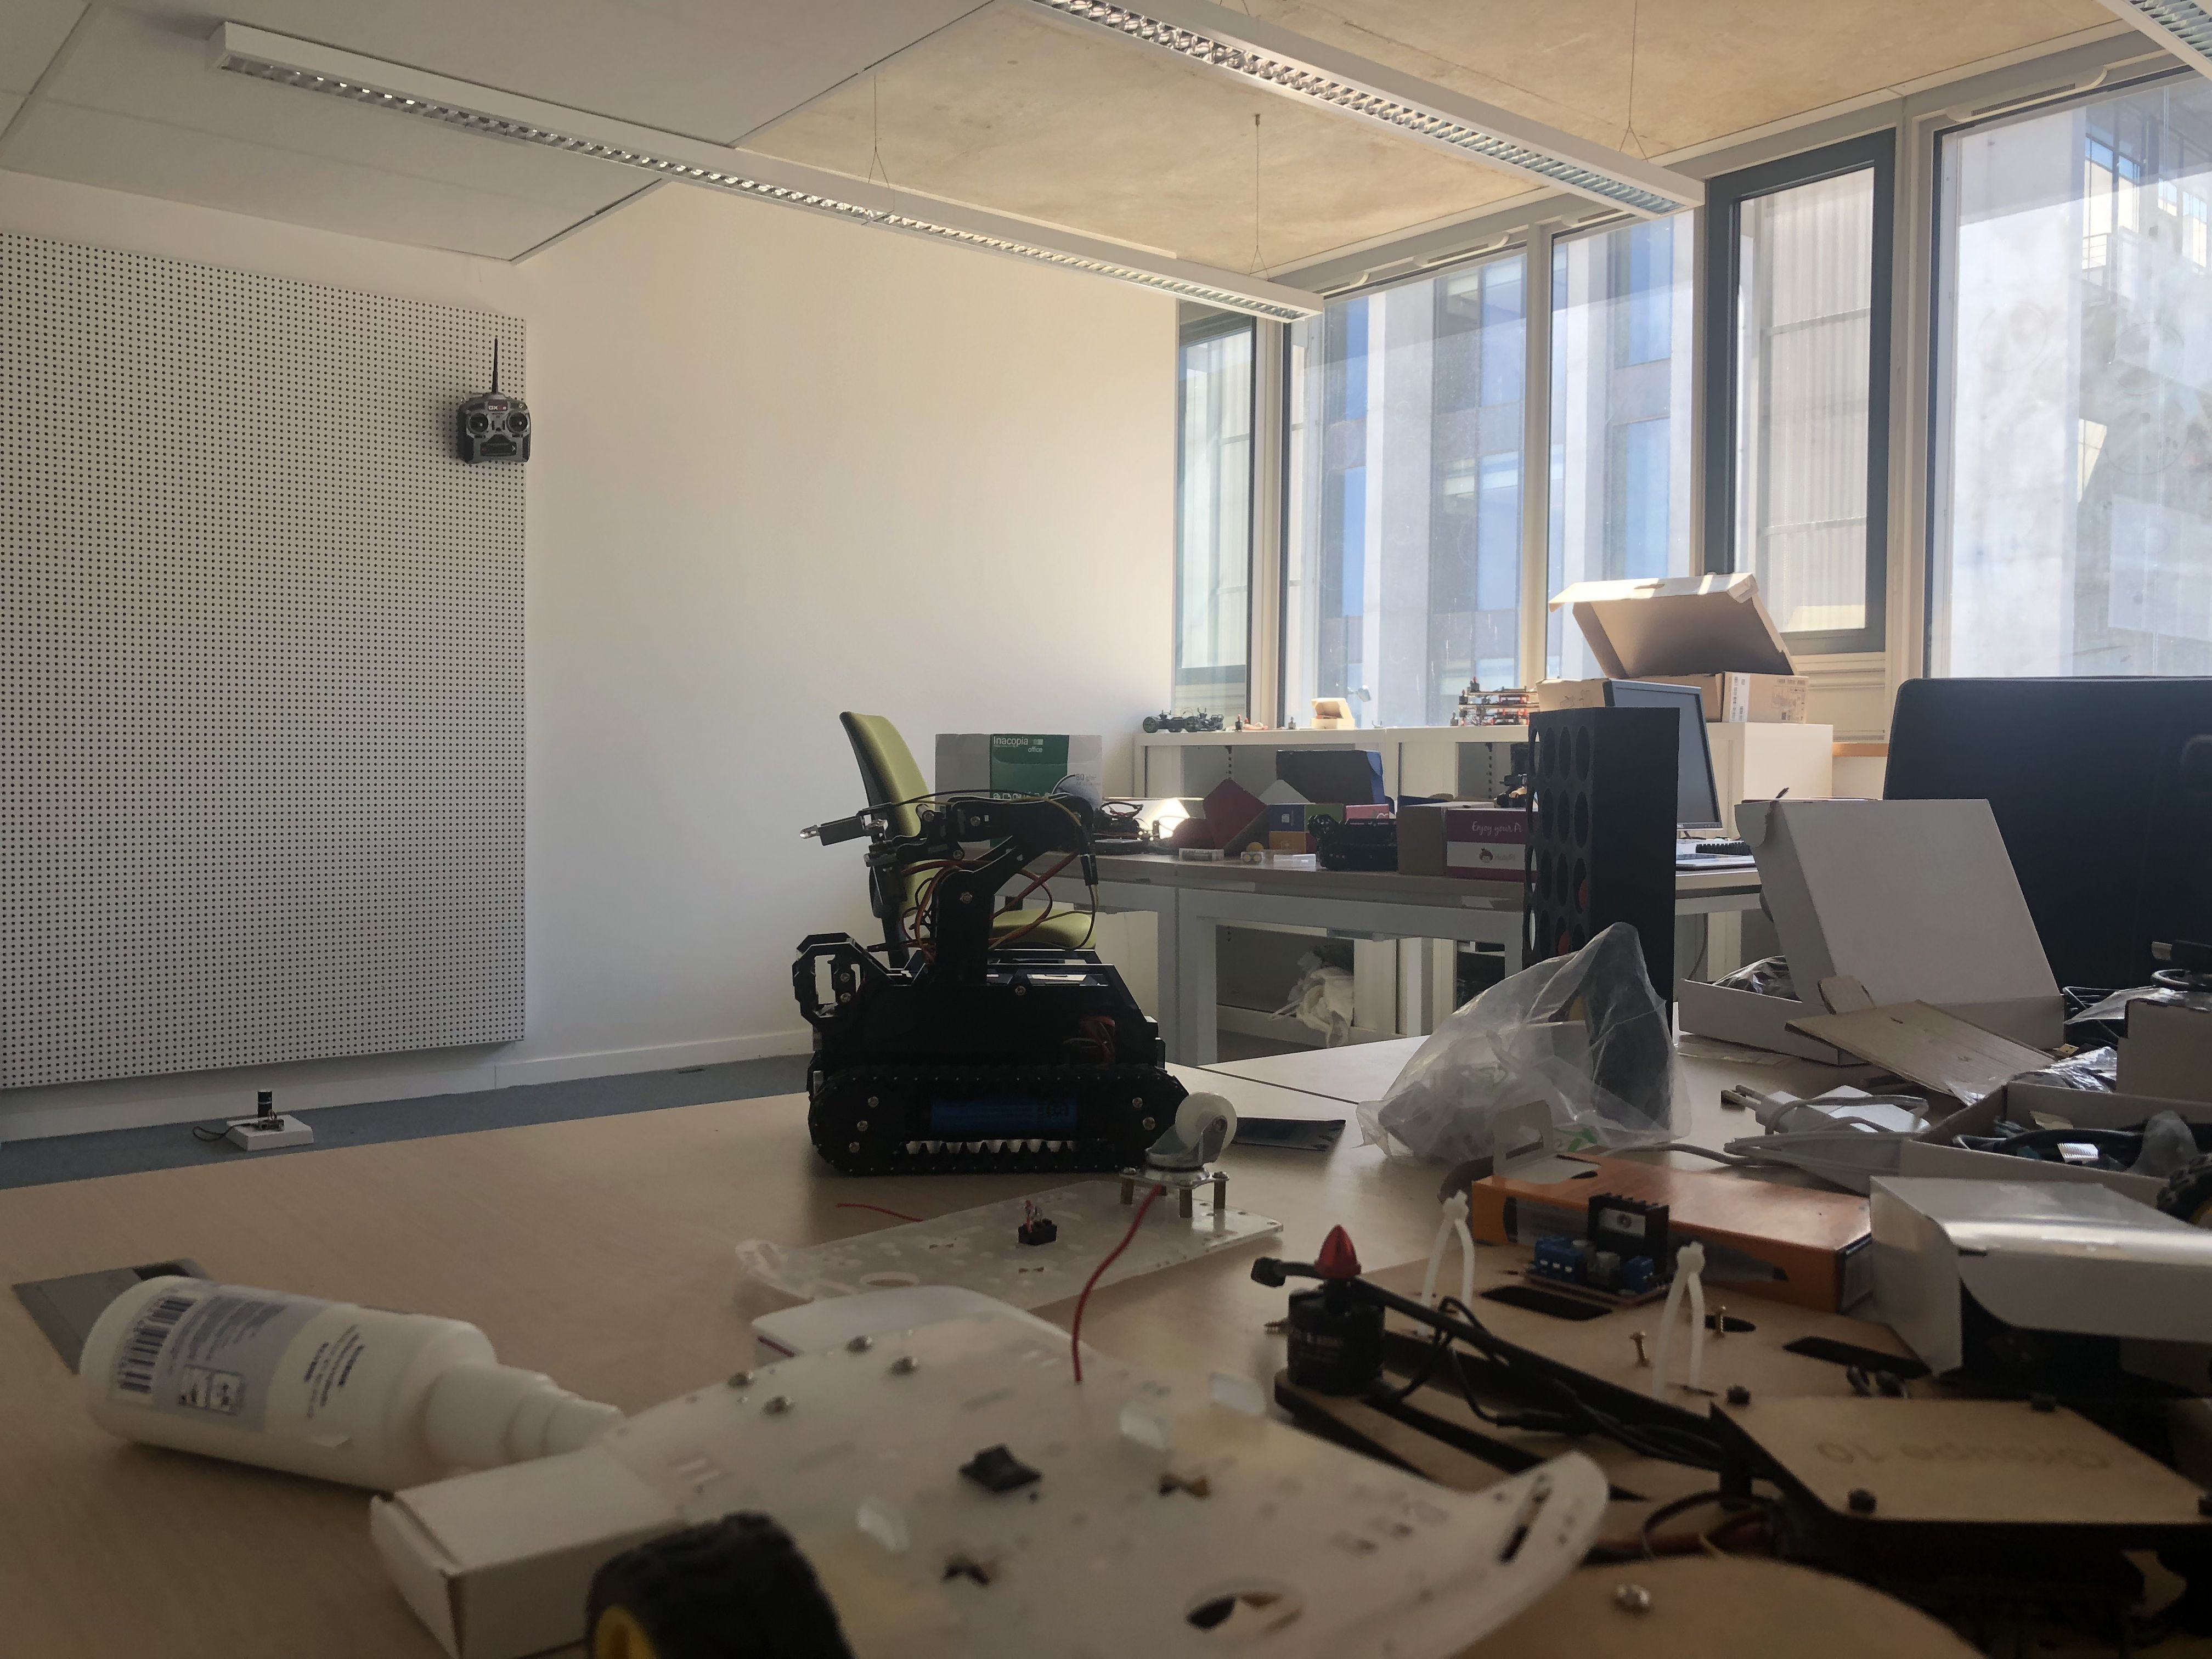rasptank: (798, 775, 1207, 1178)
